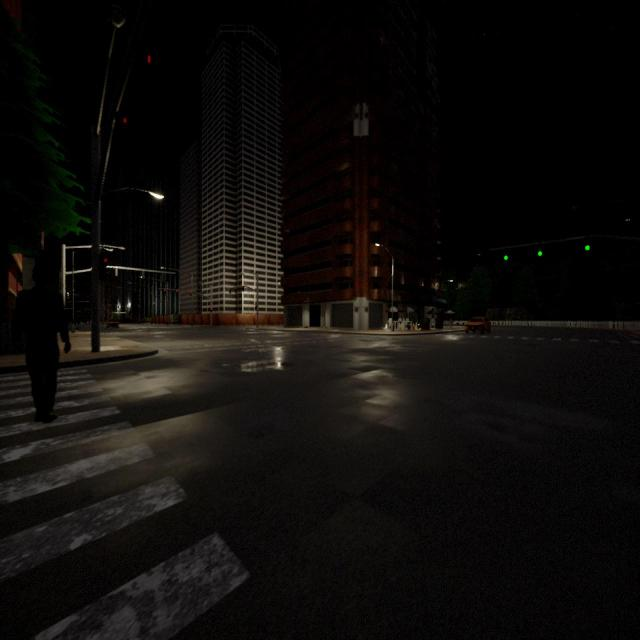Pedestrian: (16, 264, 70, 423)
Vehicle: (465, 316, 492, 335)
traffic_light: (138, 50, 152, 88), (115, 111, 128, 143), (96, 254, 108, 283), (585, 236, 590, 251), (538, 242, 542, 256), (504, 248, 508, 260), (164, 288, 166, 296), (176, 289, 178, 297), (255, 303, 257, 311), (229, 287, 231, 294), (242, 285, 244, 292), (190, 290, 192, 296), (210, 307, 212, 313), (235, 287, 237, 293)
